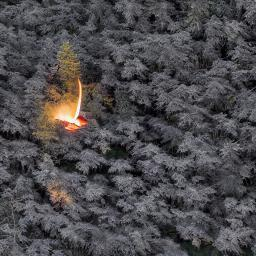Small fire: (50, 75, 89, 136)
